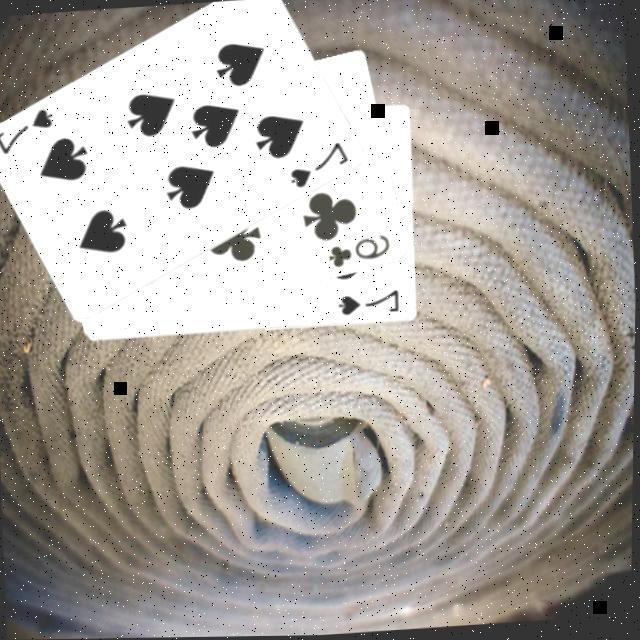6C: (324, 234, 396, 276)
7S: (284, 141, 354, 195), (0, 106, 59, 160), (336, 290, 404, 322)
